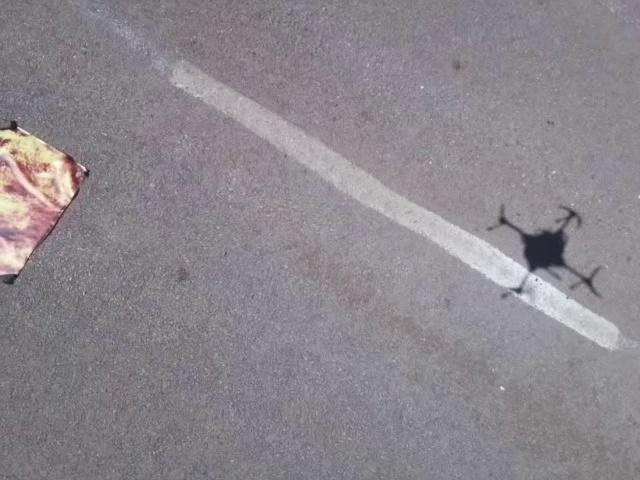fire-poster: (0, 118, 91, 286)
